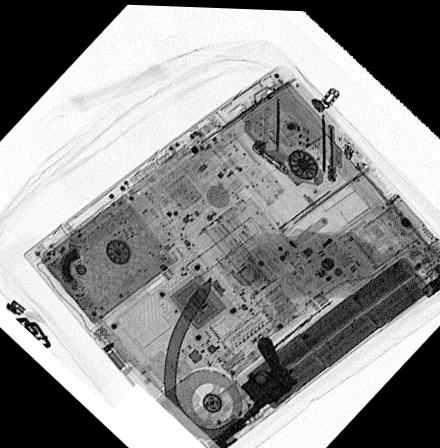Gun: (217, 332, 297, 439)
